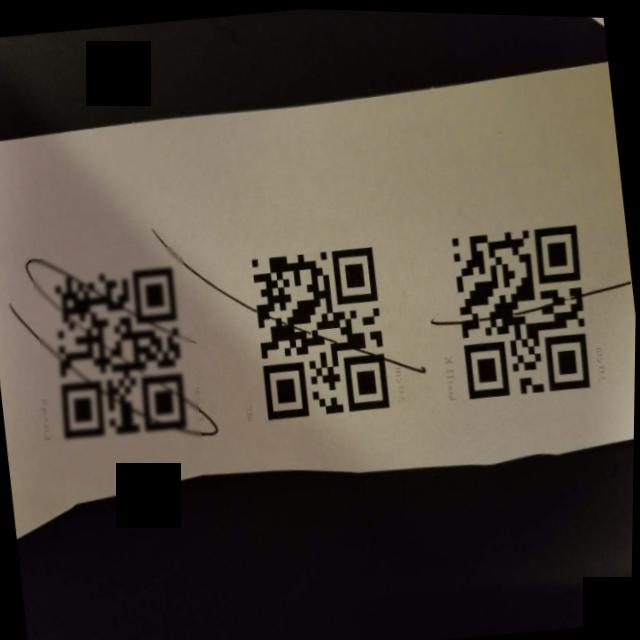QR_CODE: (29, 241, 207, 467), (232, 224, 409, 444), (438, 204, 608, 413)
